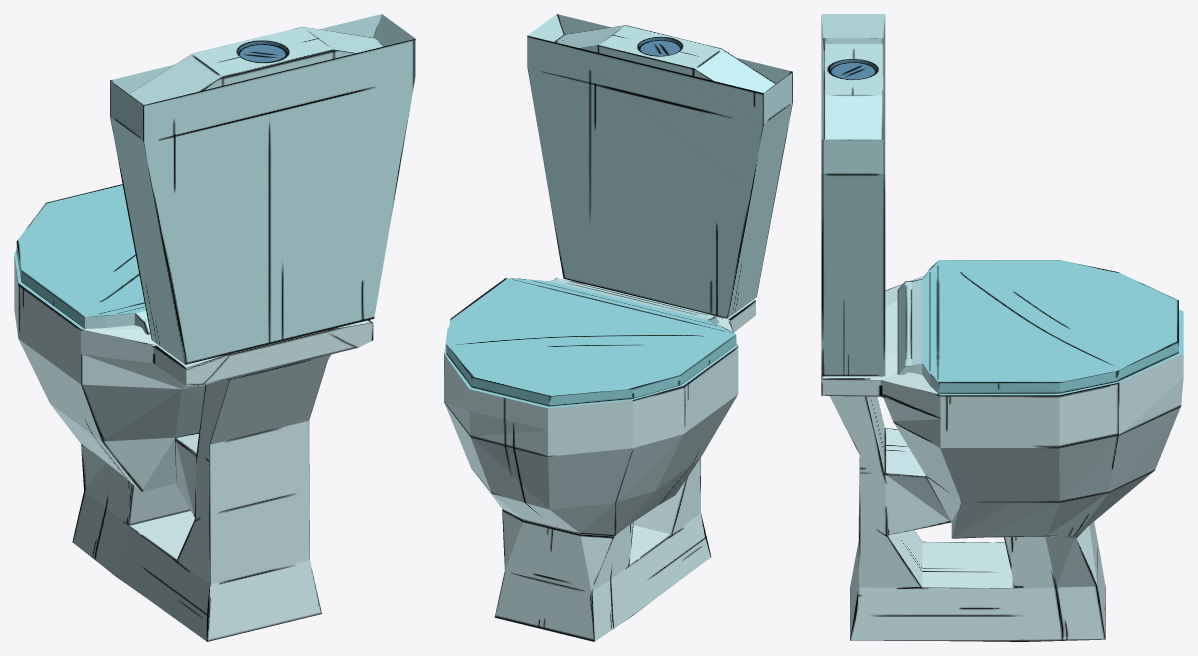
The model's file is toilet.fbx.
3 views of the same model, side by side, from view 1: azimuth 30°, elevation 25°; view 2: azimuth 150°, elevation 25°; view 3: azimuth 270°, elevation 25° (orthographic). The views are drawn at different scales.
Visible parts, largest first — view 1: toilet; view 2: toilet; view 3: toilet.
Part boxes in pixels (left/top/right/bottom): toilet: left=14, top=14, right=415, bottom=641; toilet: left=444, top=14, right=792, bottom=641; toilet: left=821, top=14, right=1183, bottom=641.
Bounding box in the file's own units: 0.6616 × 1.34 × 0.806.
